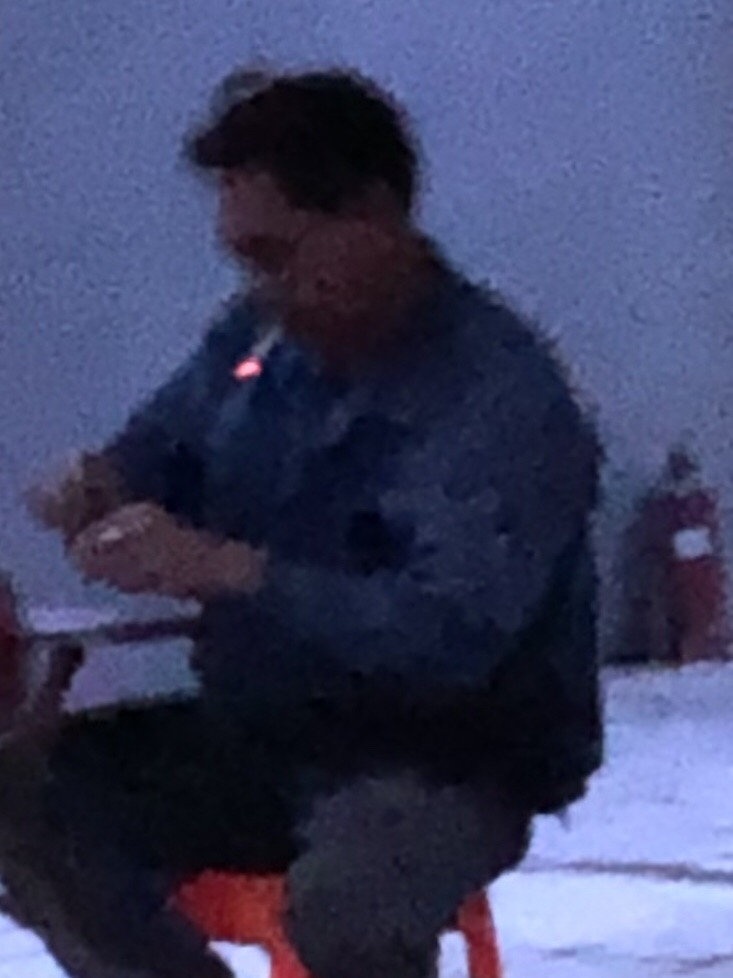smoke: (231, 330, 285, 380)
